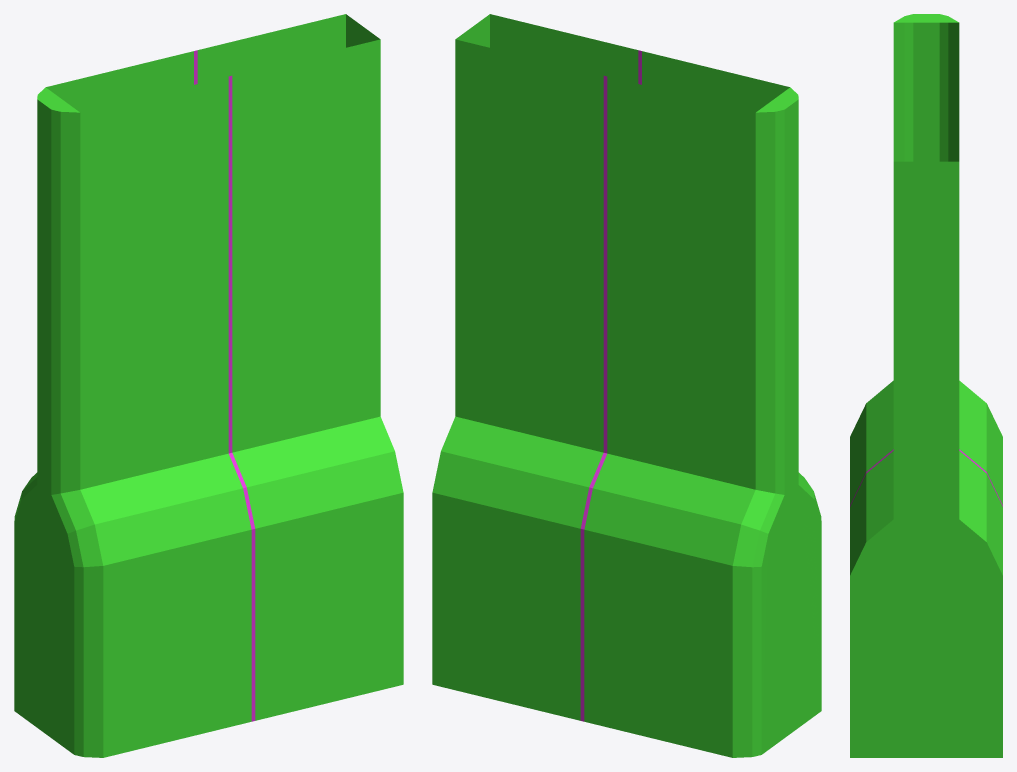
Rendered from Wall_43_F_Edge.fbx.
3 views of the same model, side by side, from view 1: azimuth 30°, elevation 25°; view 2: azimuth 150°, elevation 25°; view 3: azimuth 270°, elevation 25° (orthographic). The views are drawn at different scales.
Visible parts, largest first — view 1: Wall_43_F_Edge; view 2: Wall_43_F_Edge; view 3: Wall_43_F_Edge.
Boxes of the visible parts, bbox=[...] form: Wall_43_F_Edge: bbox=[14, 14, 403, 757]; Wall_43_F_Edge: bbox=[432, 14, 821, 757]; Wall_43_F_Edge: bbox=[850, 14, 1002, 757].
Size of the model in its own units: 243 by 457 by 106.
